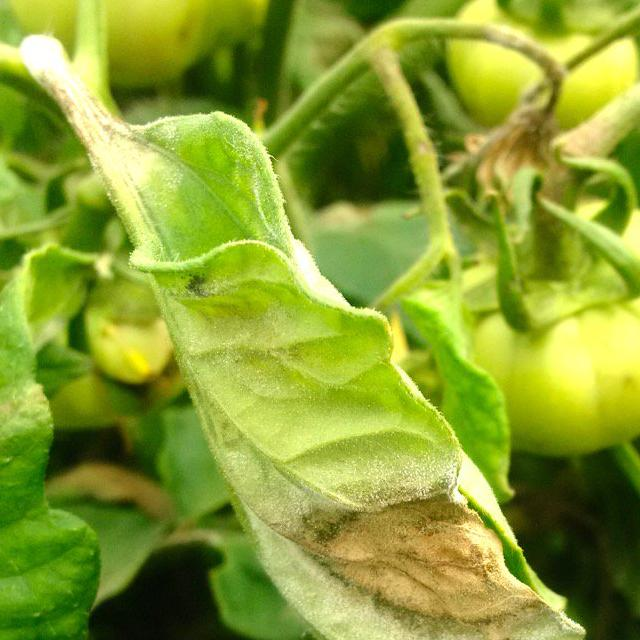Tomato leaf late blight: (53, 51, 640, 640)
